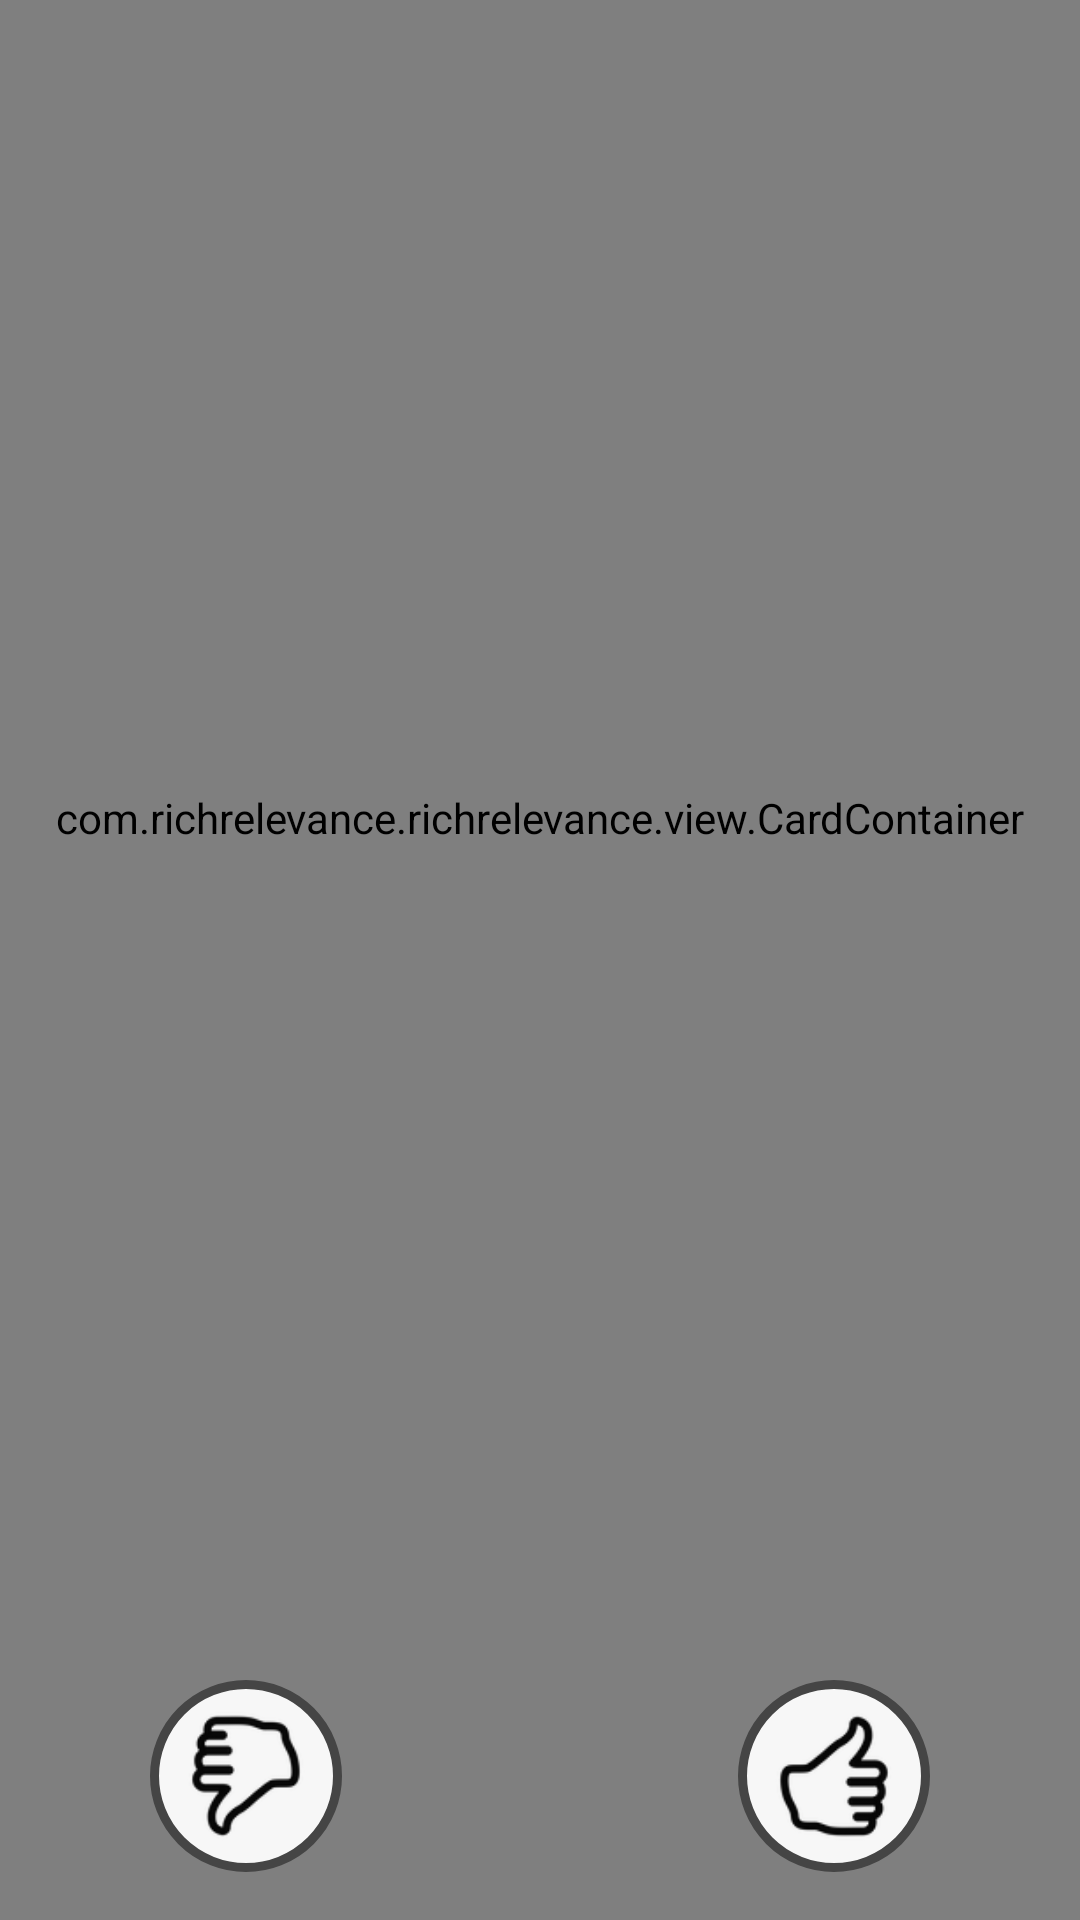

Where to tap for icons on this 1080 x 1920 app screen, as point (x, y):
dislike: point (246, 1776)
like: point (834, 1776)
